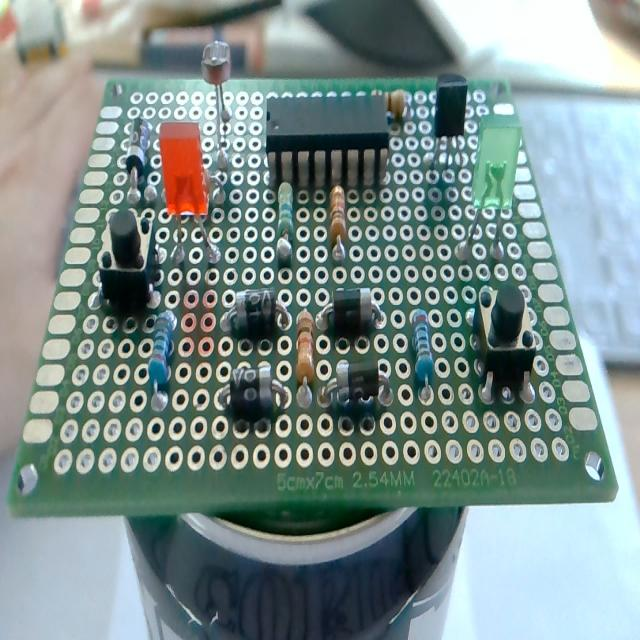IC: (263, 89, 391, 183)
cds: (202, 39, 234, 158)
diode: (218, 363, 288, 423), (220, 289, 292, 337), (324, 360, 390, 408), (316, 288, 382, 334), (126, 114, 154, 198)
led: (463, 109, 521, 263), (158, 120, 216, 269)
resistor: (145, 310, 177, 388), (410, 309, 434, 394), (295, 312, 315, 403), (277, 180, 294, 260), (329, 183, 346, 250)
switch: (472, 281, 536, 400), (98, 208, 162, 312)
transistor: (428, 70, 469, 176)
